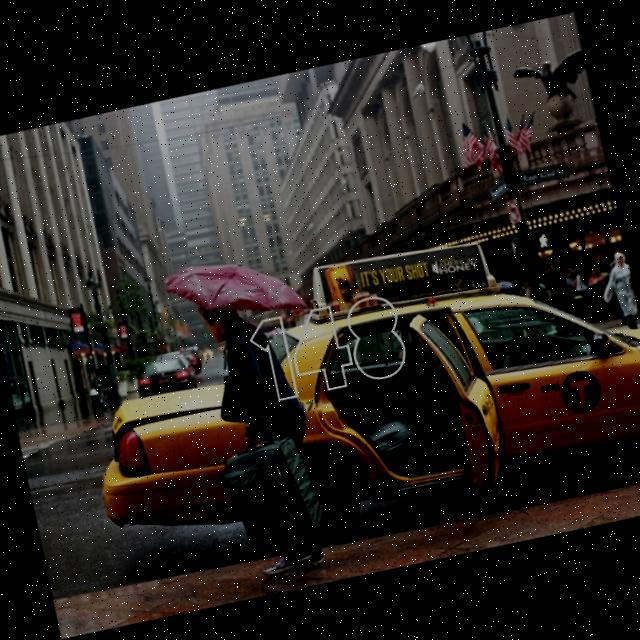fire_hydrant: (88, 385, 105, 413)
